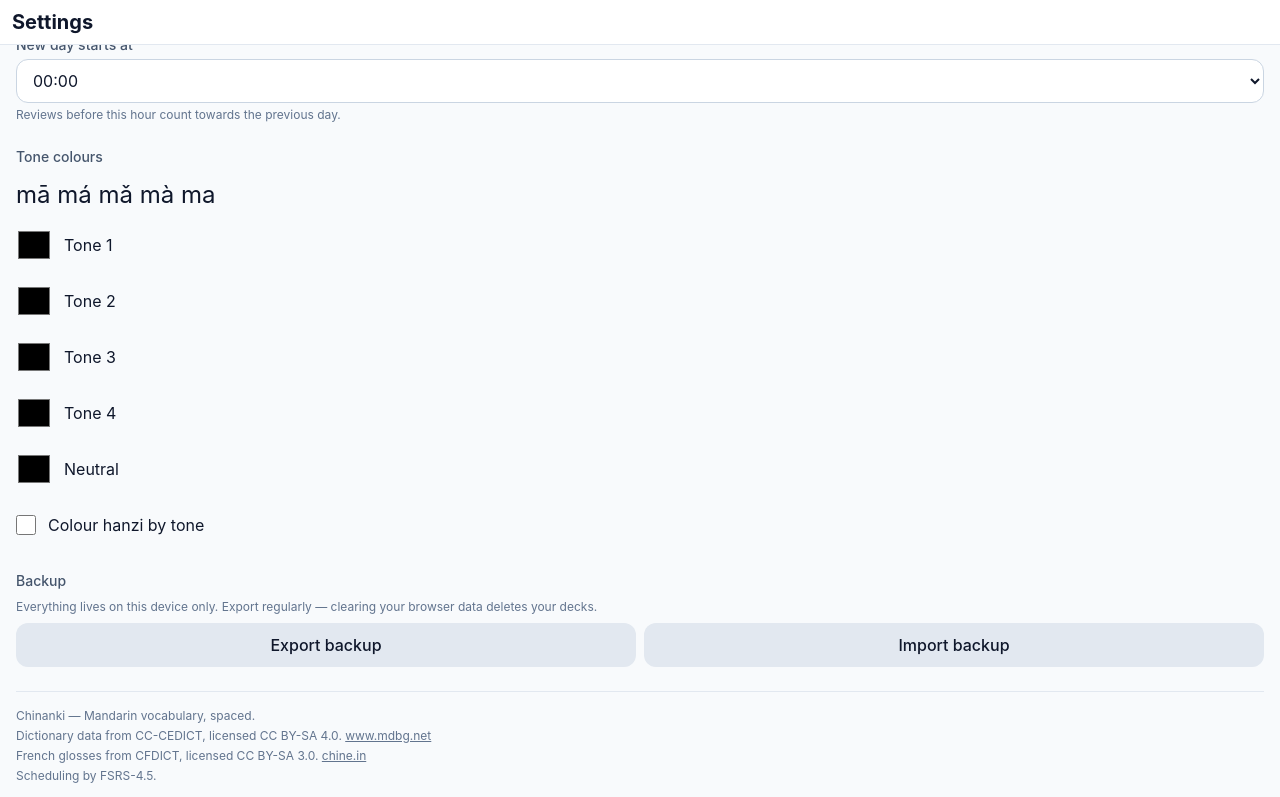
Scenario: SettingsPage › export failures › shows a message when export throws instead of failing silently
(page scrolled)
Click the button "Export backup": x=326, y=645 [16,623,636,667]
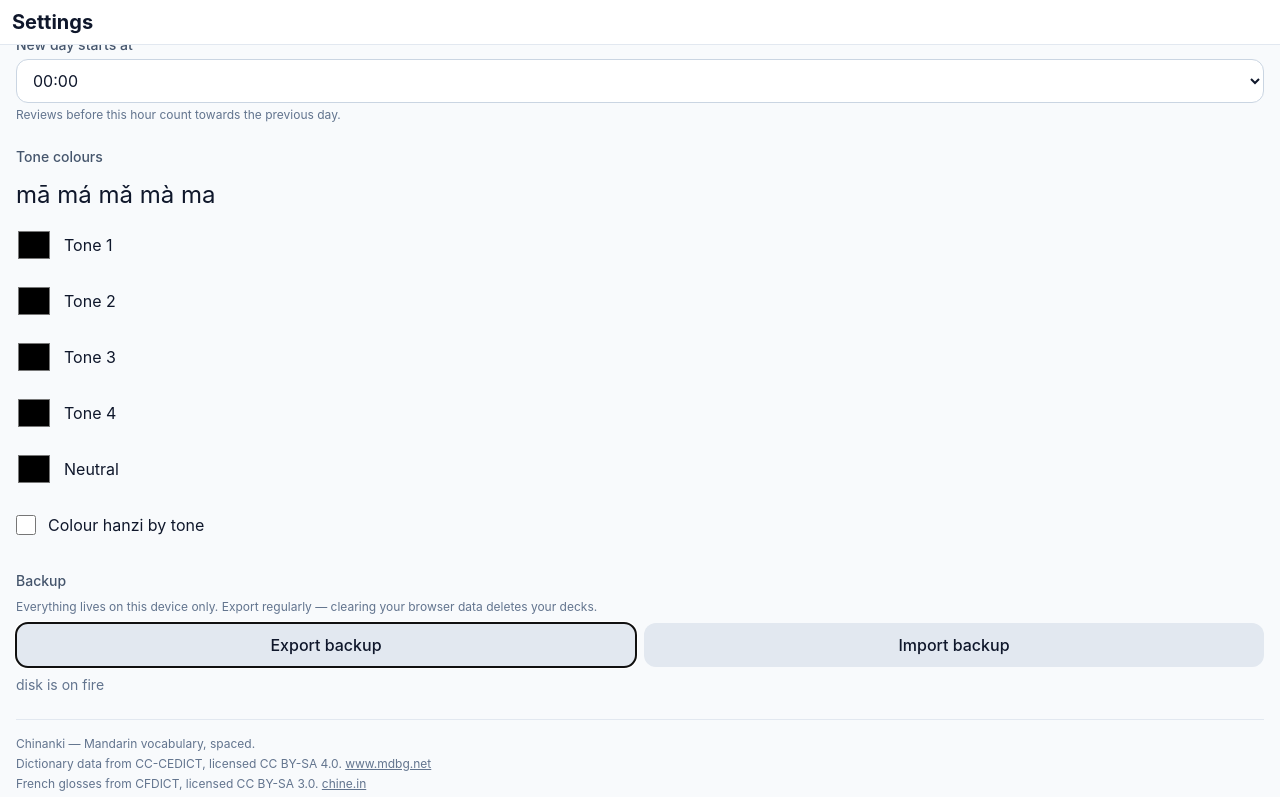
Result: the text "disk is on fire" is shown at [16,676,104,693]
